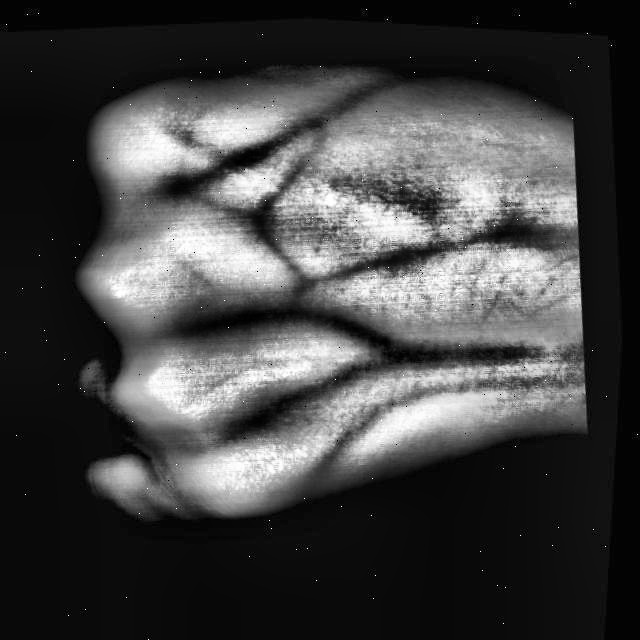Vein: (361, 321, 566, 368)
